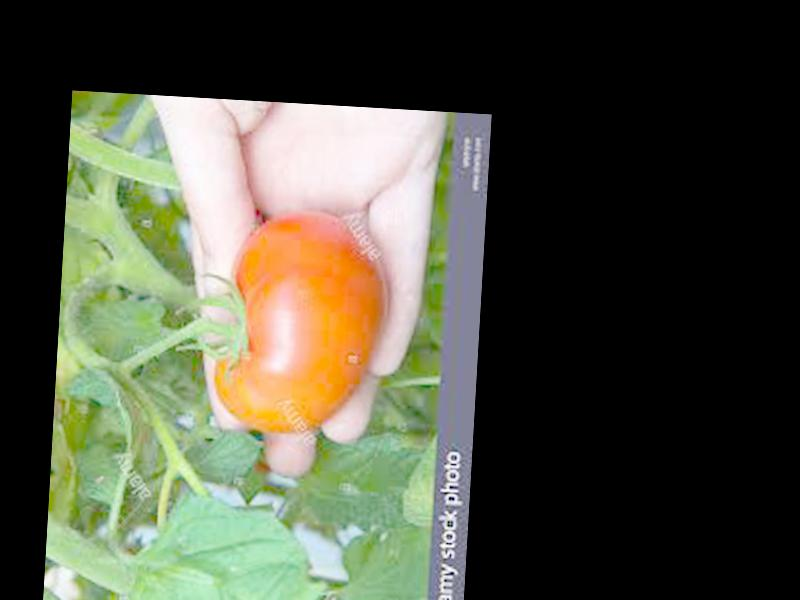Tomato: (211, 204, 386, 438)
